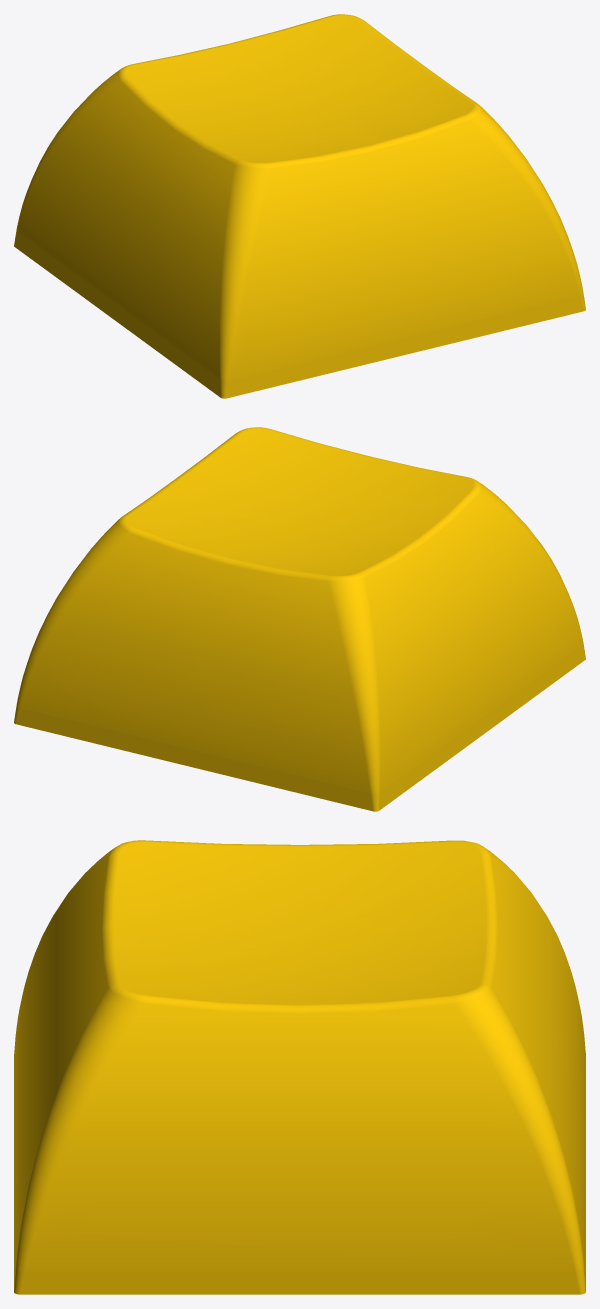
3 renders of one model, top to bottom at view 1: azimuth 30°, elevation 25°; view 2: azimuth 150°, elevation 25°; view 3: azimuth 270°, elevation 25°, orthographic. The views are drawn at different scales.
Visible parts, largest first — view 1: Body1; view 2: Body1; view 3: Body1.
Boxes of the visible parts, left/top/right/bottom form: Body1: left=14, top=14, right=585, bottom=398; Body1: left=14, top=427, right=585, bottom=811; Body1: left=14, top=840, right=585, bottom=1294.
Bounding box in the file's own units: 18.31 × 9.05 × 18.31.
